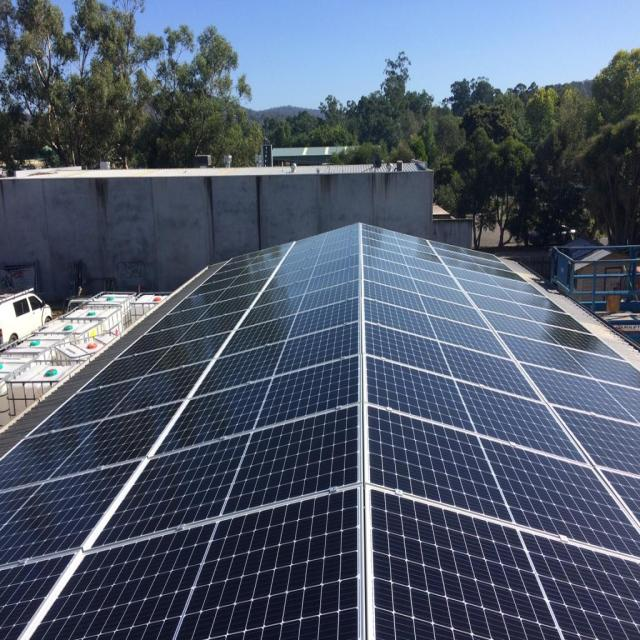clean-solar-panel: (0, 225, 640, 638)
